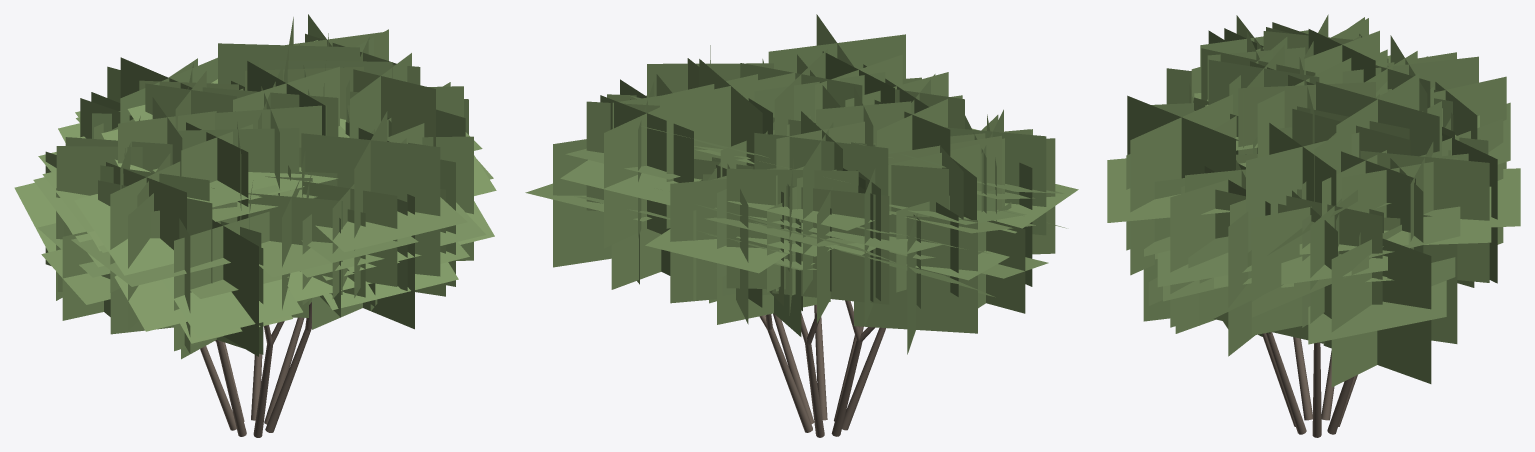
The model's file is hazel.glb.
3 views of the same model, side by side, from view 1: azimuth 30°, elevation 25°; view 2: azimuth 150°, elevation 25°; view 3: azimuth 270°, elevation 25° (orthographic). The views are drawn at different scales.
Visible parts, largest first — view 1: hazel; view 2: hazel; view 3: hazel.
Boxes of the visible parts, x1,y1,x2,y2 form: hazel: (14, 14, 496, 437); hazel: (525, 14, 1078, 437); hazel: (1107, 14, 1520, 437).
Size of the model in its own units: 5.52 by 4.23 by 4.38.
